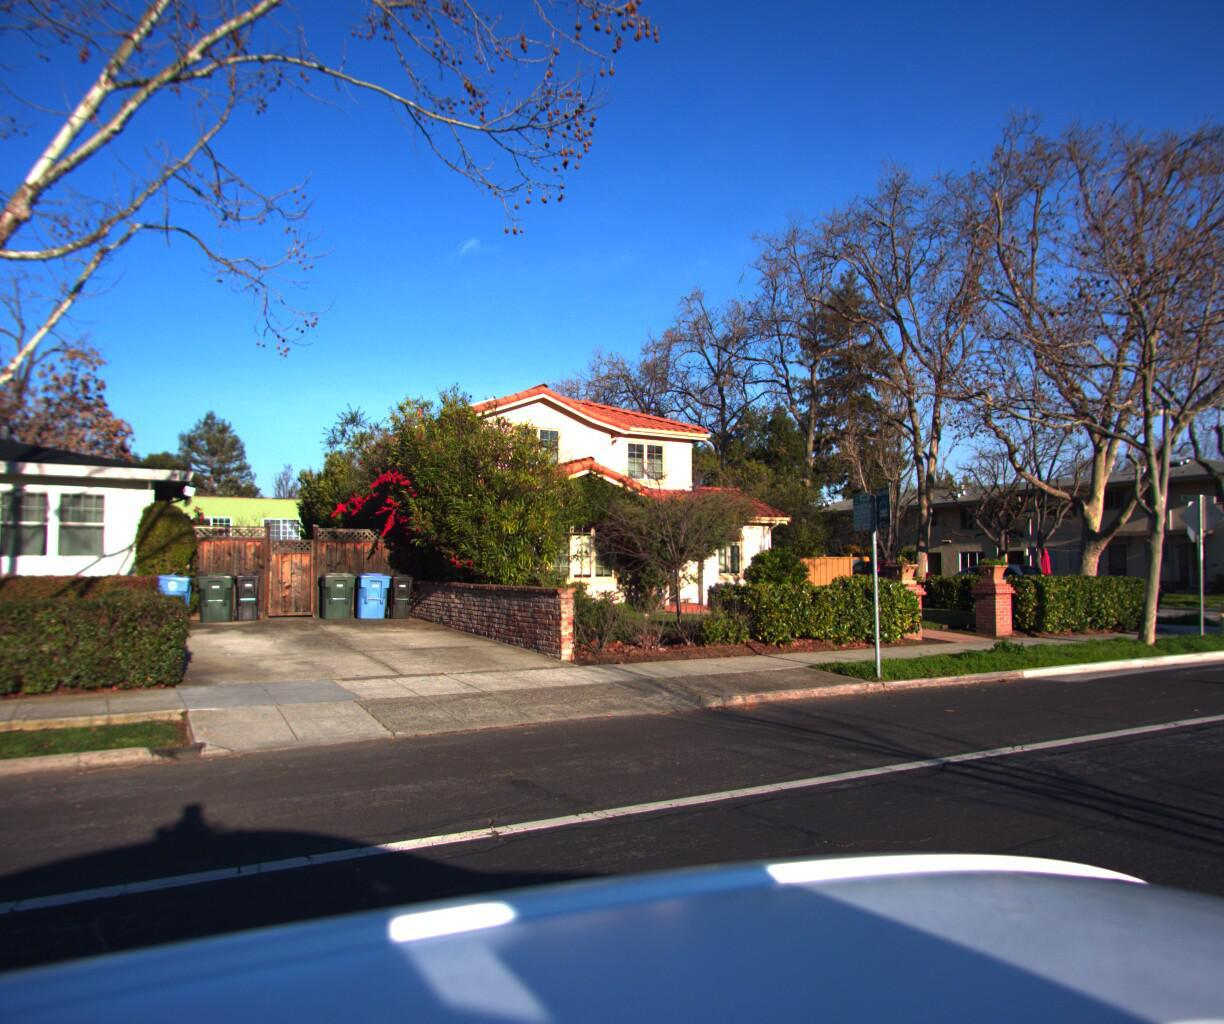car: (929, 556, 1057, 598), (824, 553, 940, 594)
